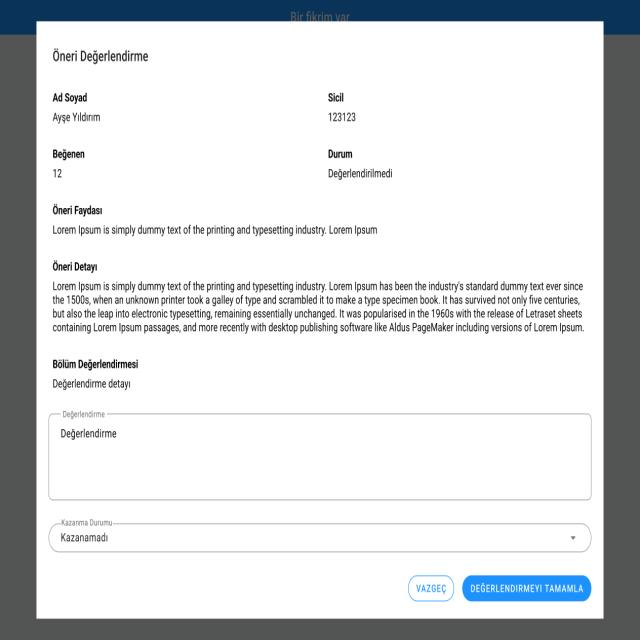QLabel: (49, 278, 586, 336), (49, 222, 378, 238), (50, 47, 151, 67), (469, 582, 585, 596), (49, 356, 139, 372), (49, 378, 134, 392), (324, 166, 394, 182), (50, 203, 105, 219), (50, 259, 99, 273), (51, 111, 101, 123), (51, 90, 88, 106), (414, 581, 448, 596), (324, 146, 354, 162), (324, 110, 358, 124), (51, 148, 86, 161), (324, 90, 347, 104), (50, 166, 65, 179)
VBtn: (462, 574, 592, 602), (408, 575, 454, 602)
VCombobox: (48, 520, 591, 554)
VDialog: (37, 21, 604, 620)
VTextarea: (47, 410, 592, 502)
